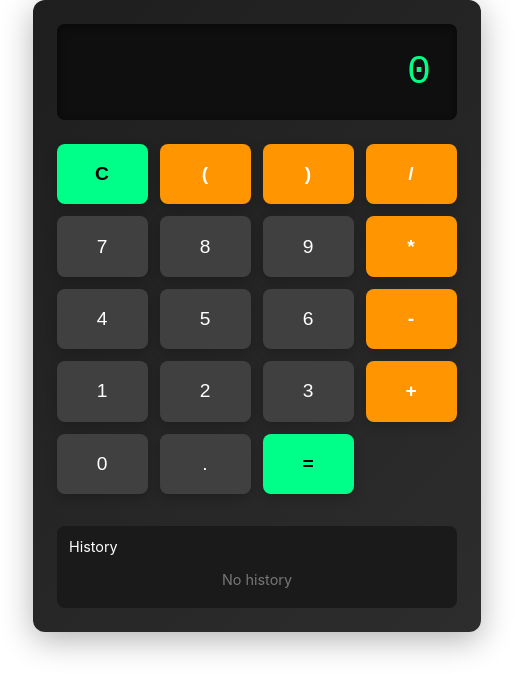
Scenario: Calculator integration › performs a basic calculation
Click the button "2": (206, 391) [160,361,251,422]
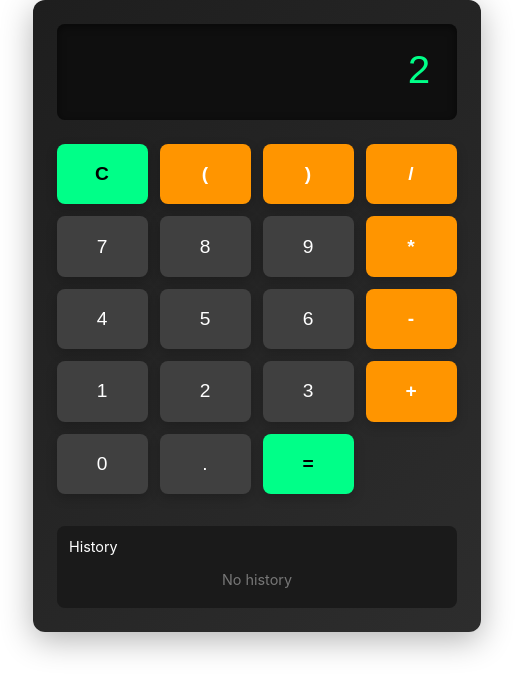
Click the button "+": (412, 391) [366,361,457,422]
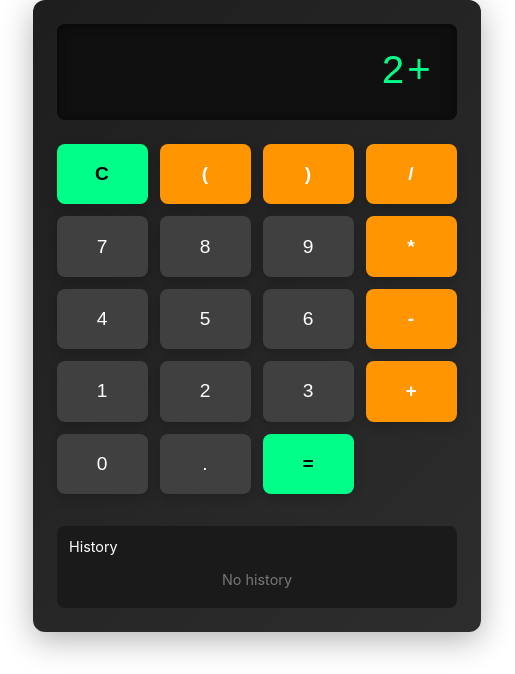
Click the button "3": (308, 391) [263,361,354,422]
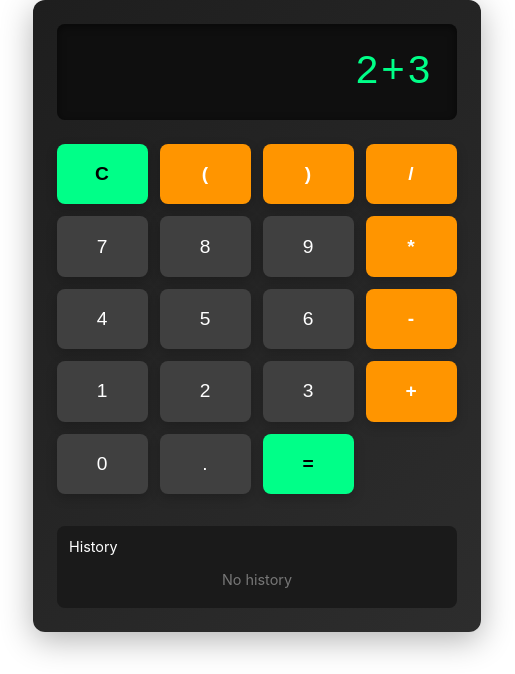
Click the button "=": (308, 464) [263,434,354,494]
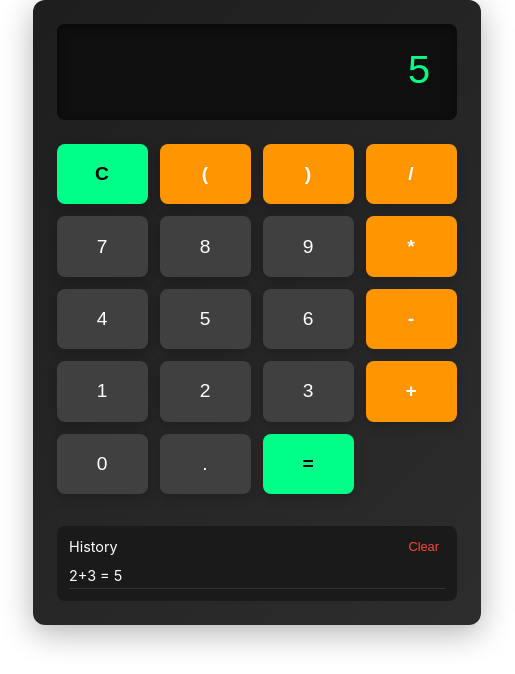
Expected: the text "5" is shown, [407,50,433,94]
